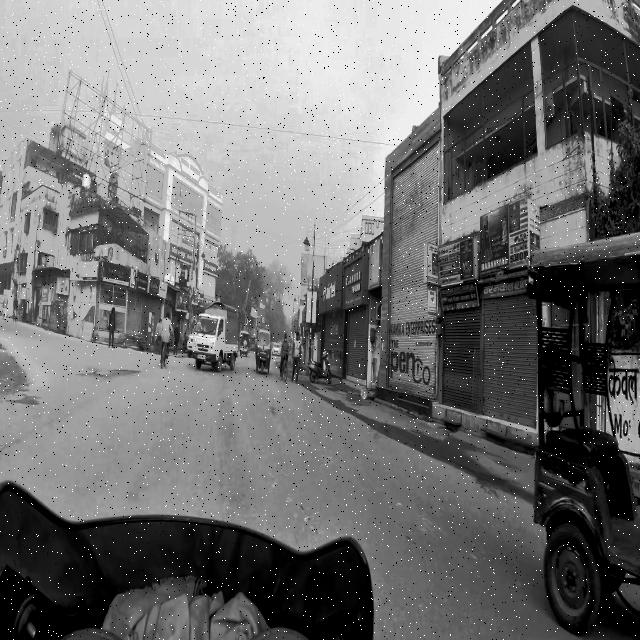Auto-Rickshaw: (253, 324, 273, 378)
LCV: (196, 296, 238, 369)
Toto: (516, 227, 640, 628)
